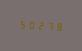eight: (54, 20, 62, 32)
five: (18, 18, 26, 30)
seven: (45, 20, 53, 31)
two: (36, 19, 44, 31)
zero: (27, 19, 35, 30)
